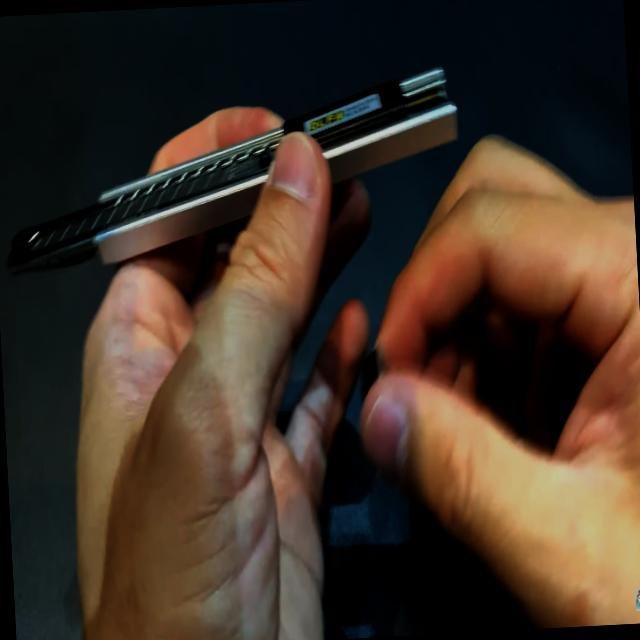cutter: (0, 40, 533, 342)
